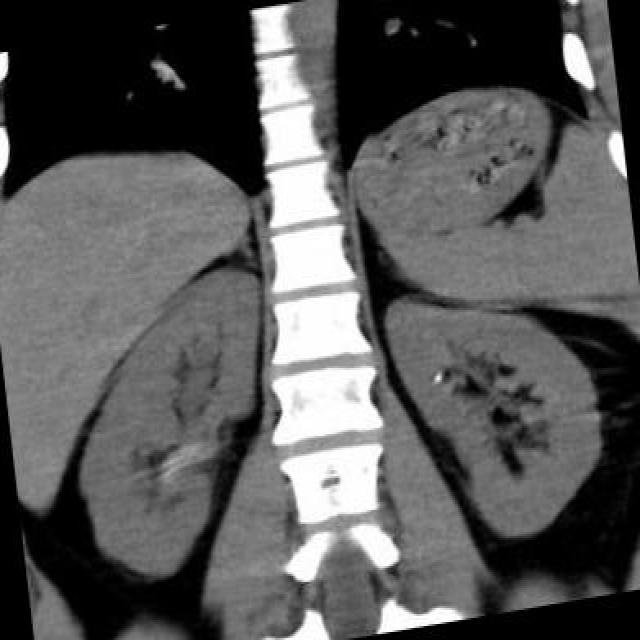Tas_Var: (431, 368, 446, 388)
